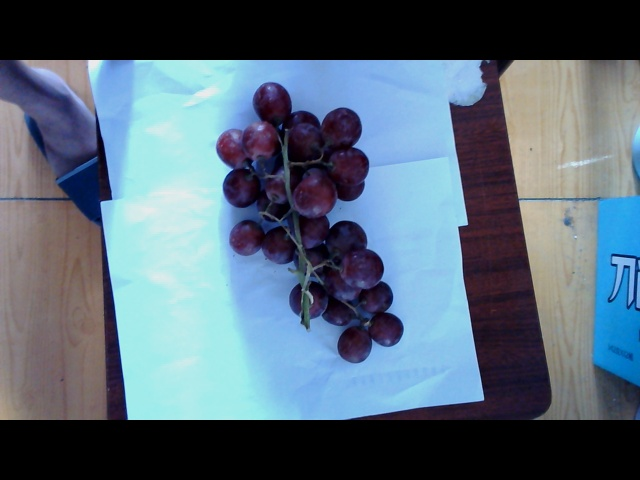grape: (208, 84, 403, 377)
